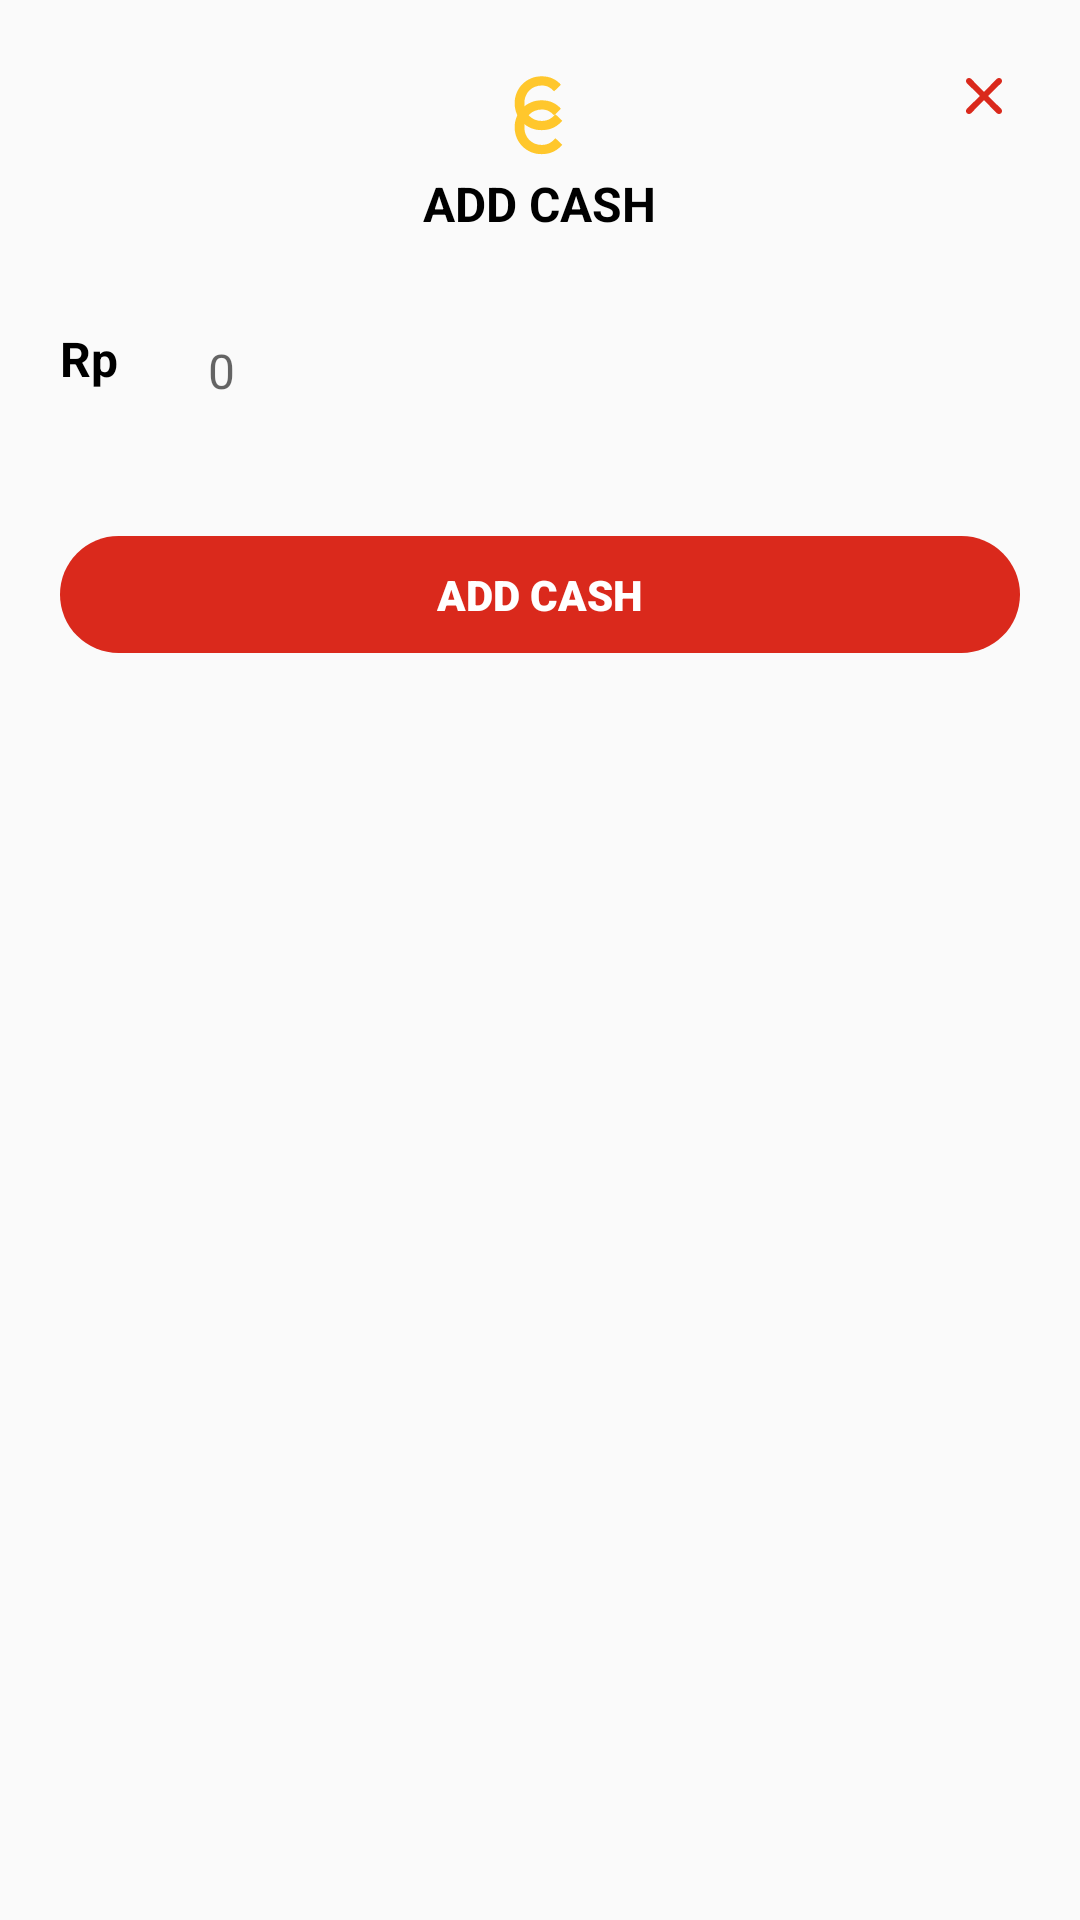

Screen size 1080×1920. Icon name, then its box in pixels as detection(x1, y1, x2, y2):
cancel: detection(966, 78, 1002, 114)
